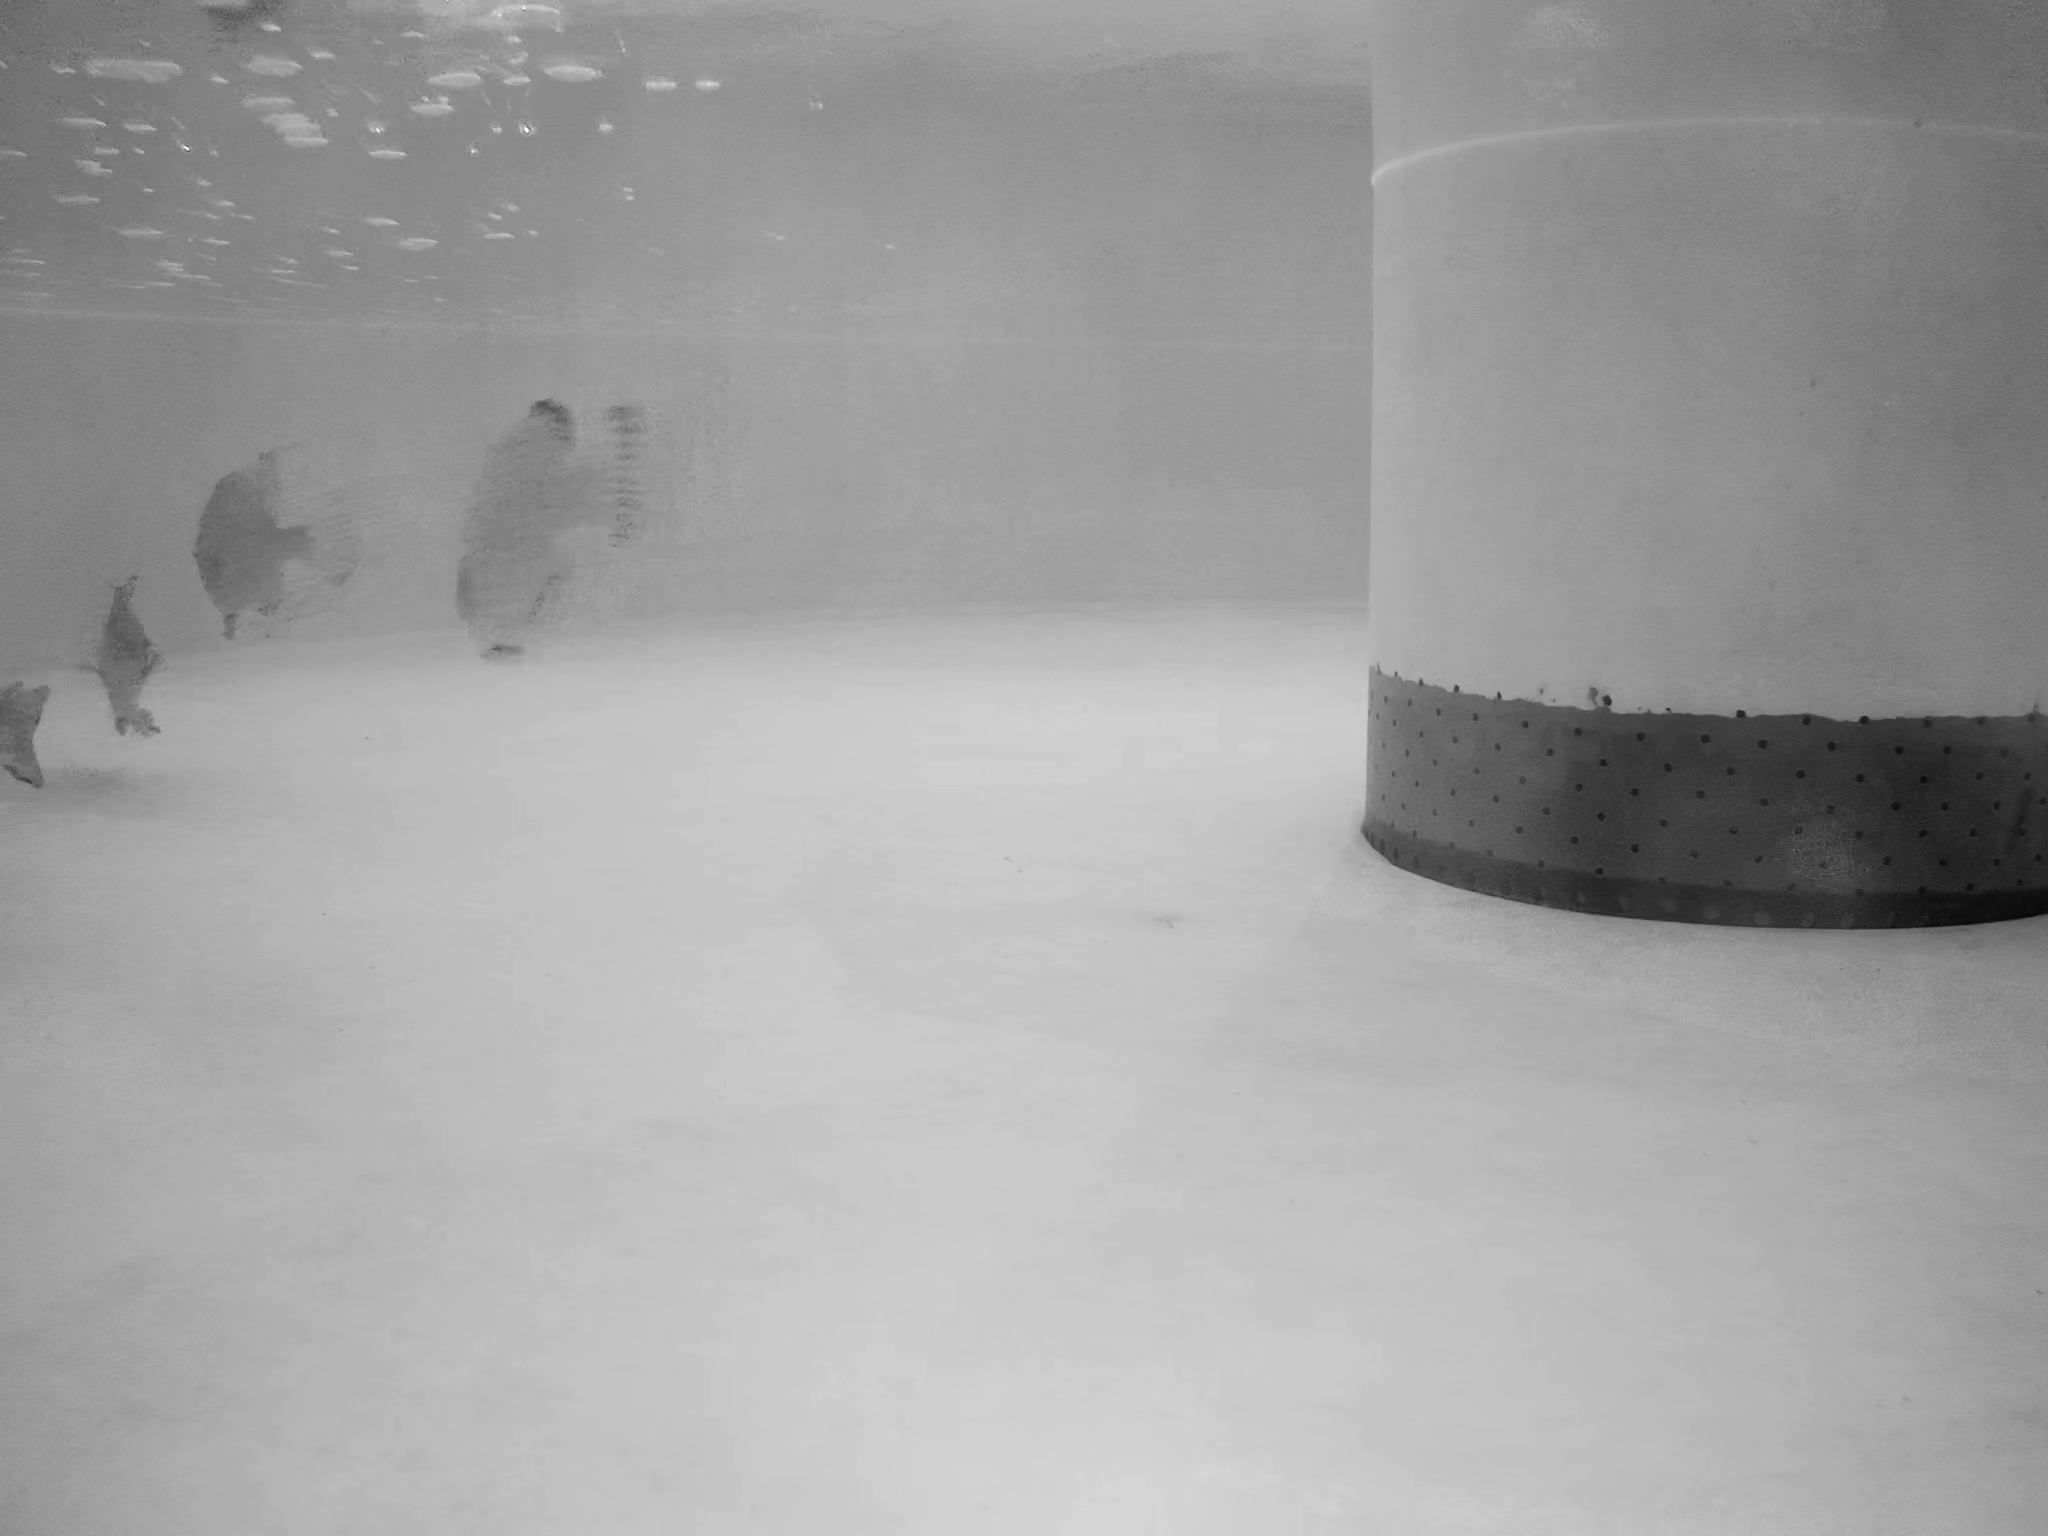fish: (447, 394, 650, 668), (192, 450, 360, 645), (82, 581, 174, 739), (2, 671, 58, 797)
